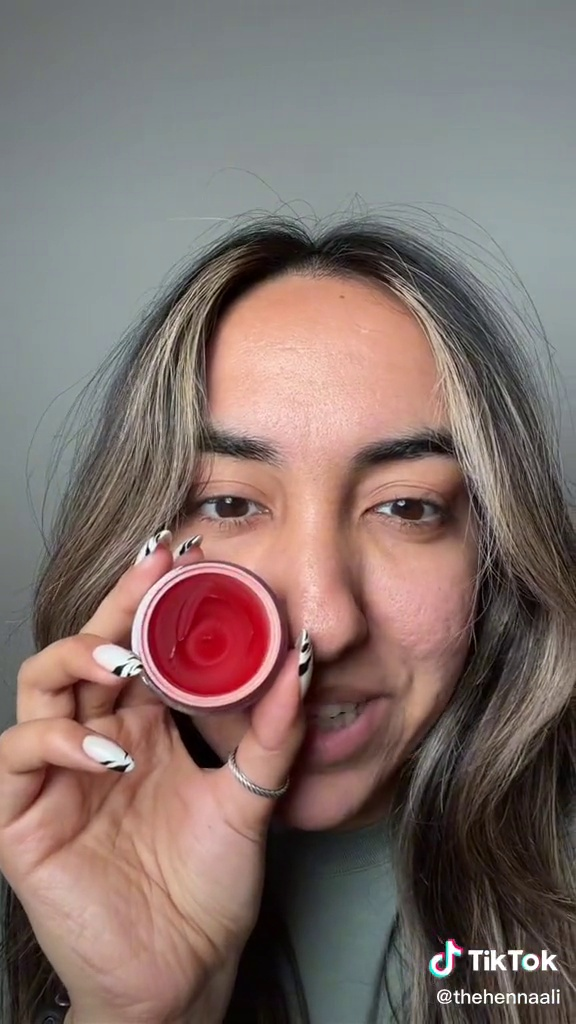train' :'yolo_data/train/images',: (122, 551, 291, 719)
